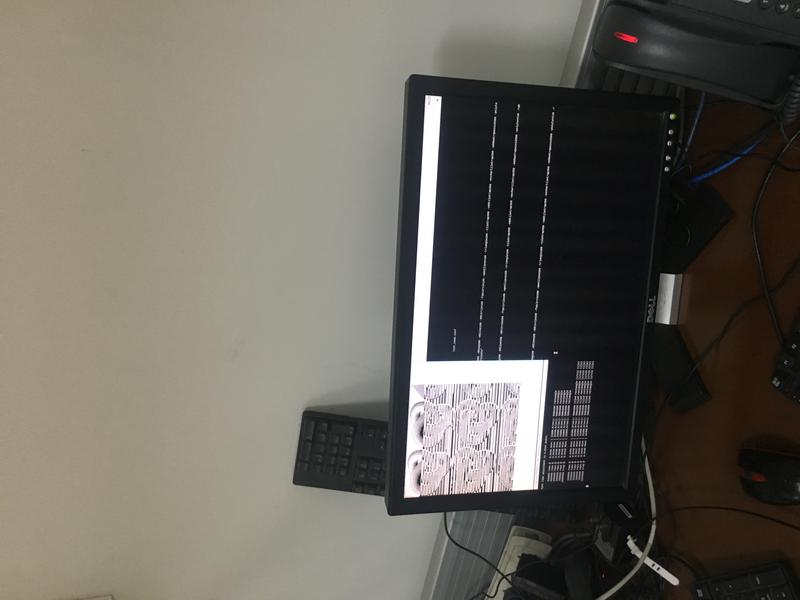xrandr_pass: (392, 355, 546, 498)
